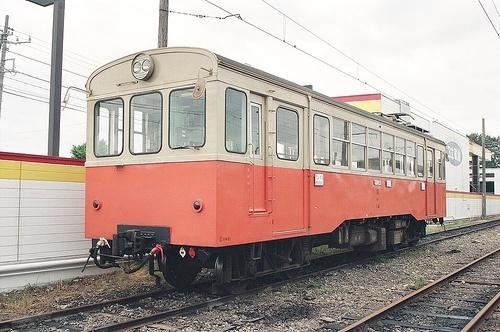train: (84, 46, 450, 297)
